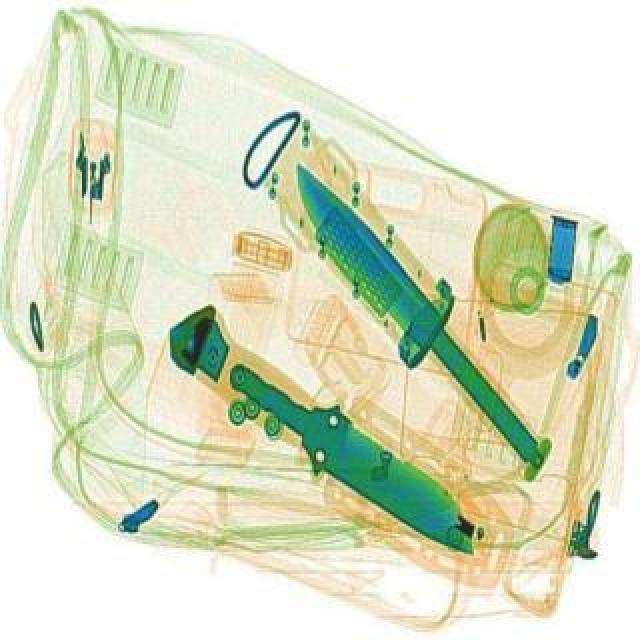knife: (276, 152, 564, 478), (210, 340, 506, 574)
